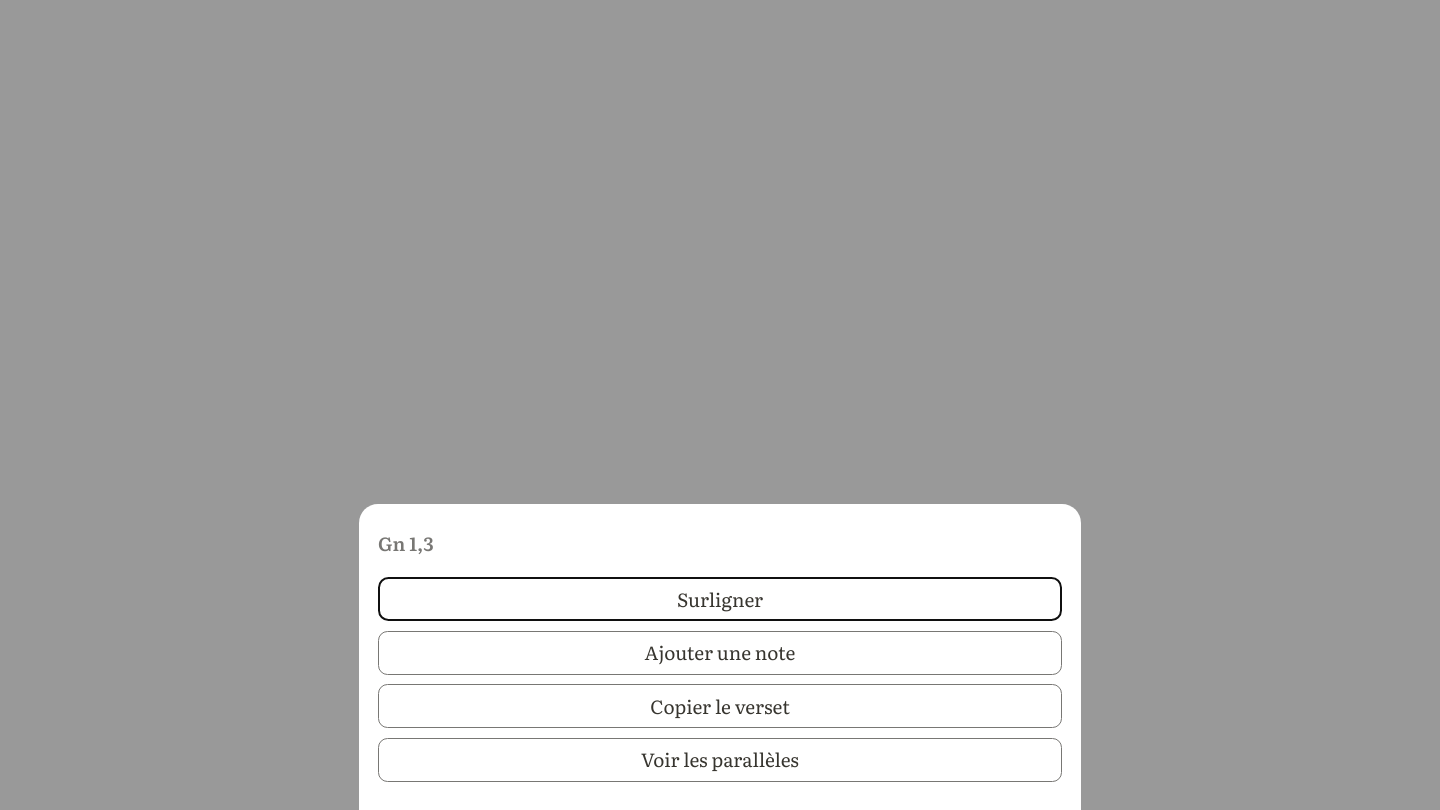
Scenario: VerseMenu › copier le verset › si la copie échoue, le dit au lieu de faire comme si de rien n'était
Click the button "Copier le verset".
click(720, 706)  # box [378, 684, 1062, 728]
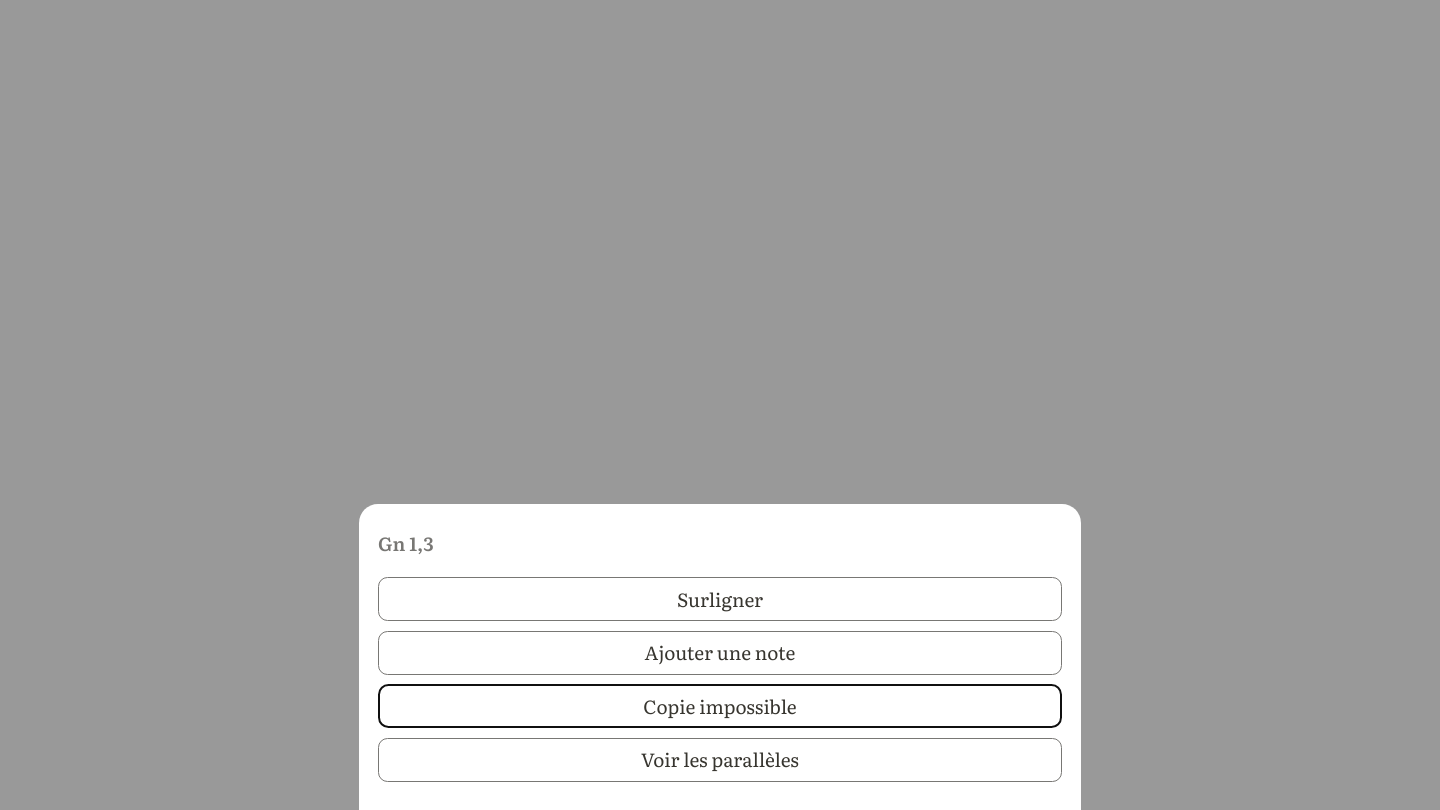
Expected: the button "Copie impossible" is shown, [378, 684, 1062, 728]
